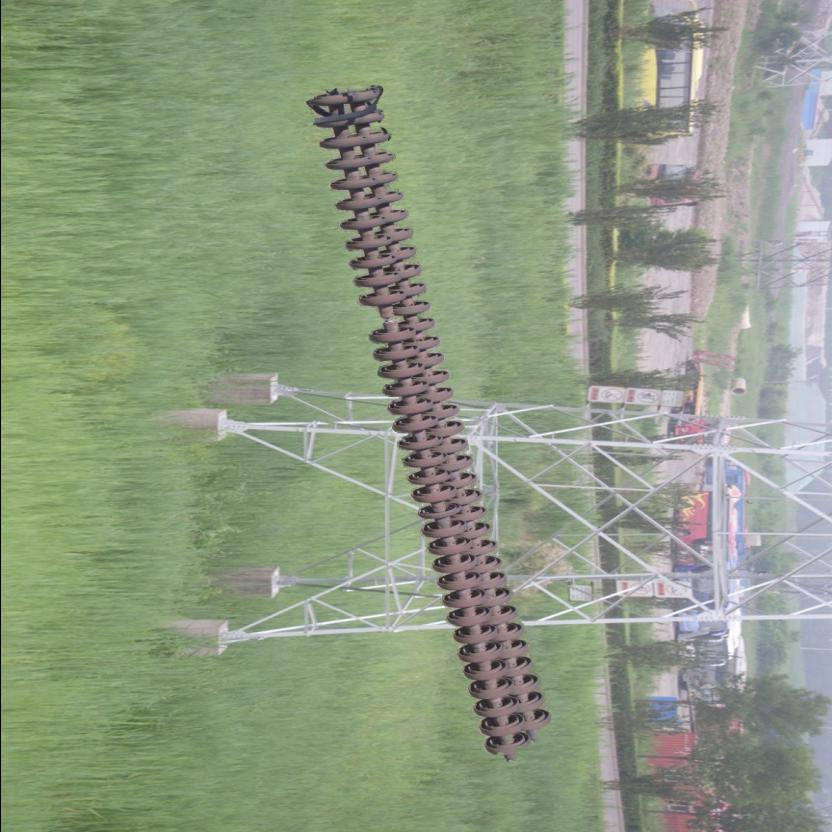defect: (358, 291, 416, 350)
